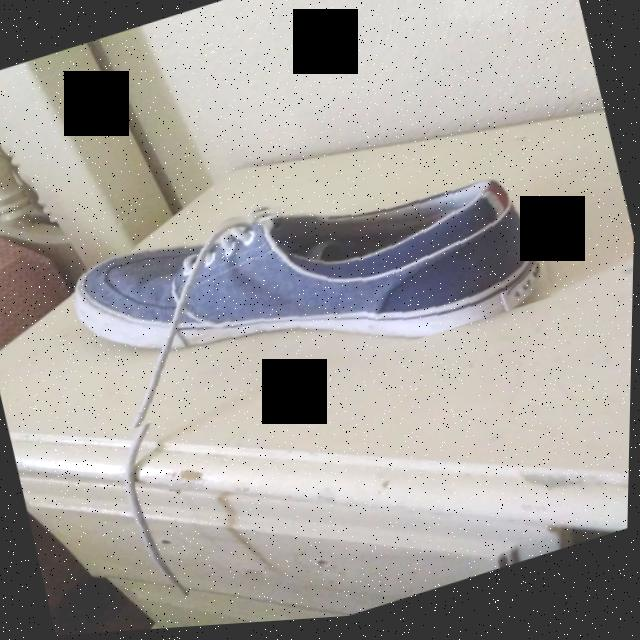shoe: (63, 128, 566, 441)
